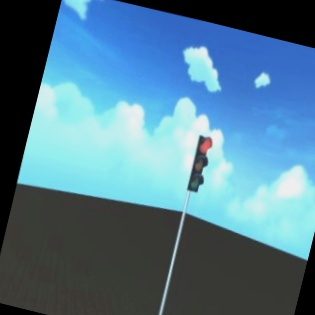sinalRed: (184, 133, 215, 196)
